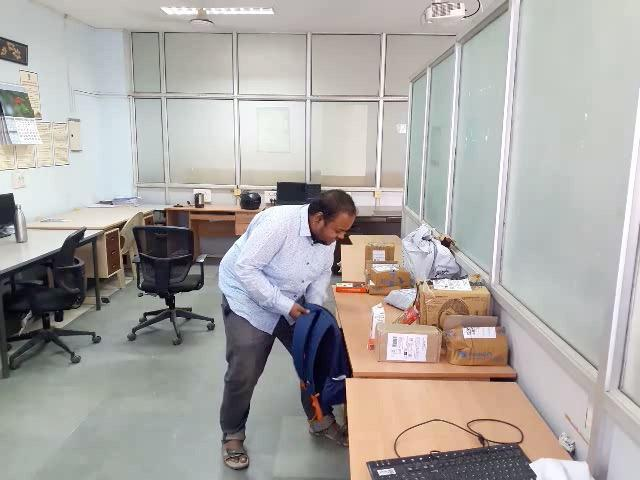shoplifting: (223, 245, 437, 424)
